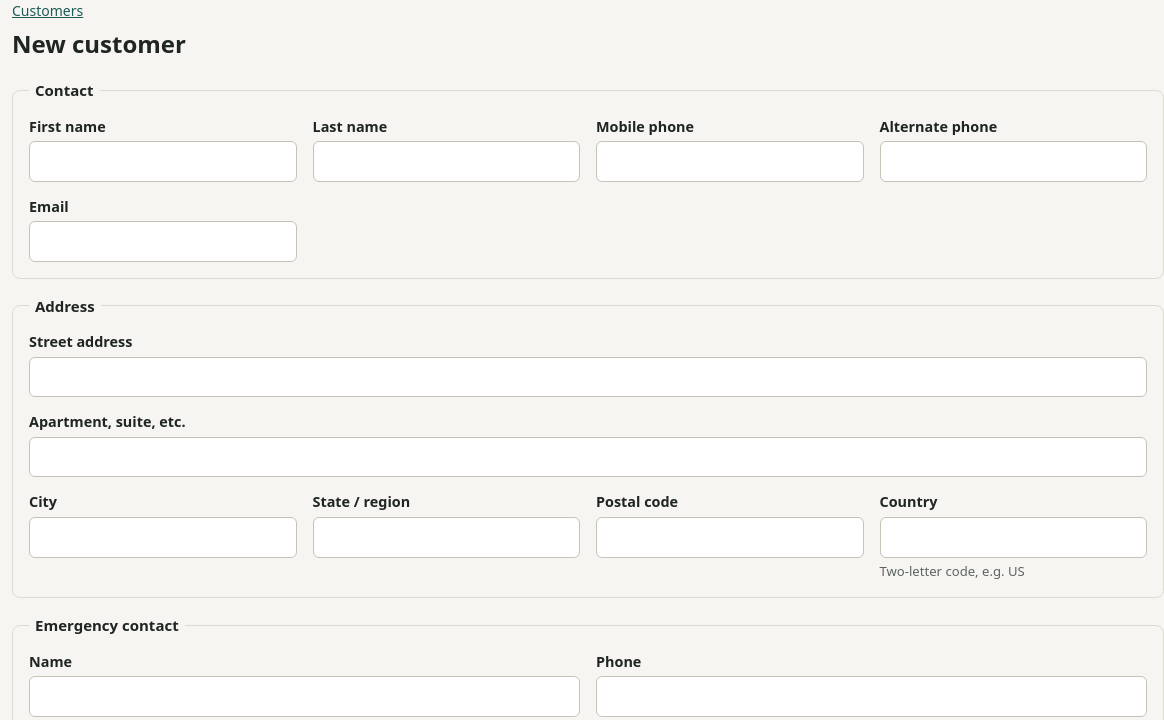
Test: CustomerFormPage › sends the CSRF header and navigates to the new customer
The image size is (1164, 720).
In the field labelled "First name": (163, 161) 29,141 -> 296,182, type "Dana"
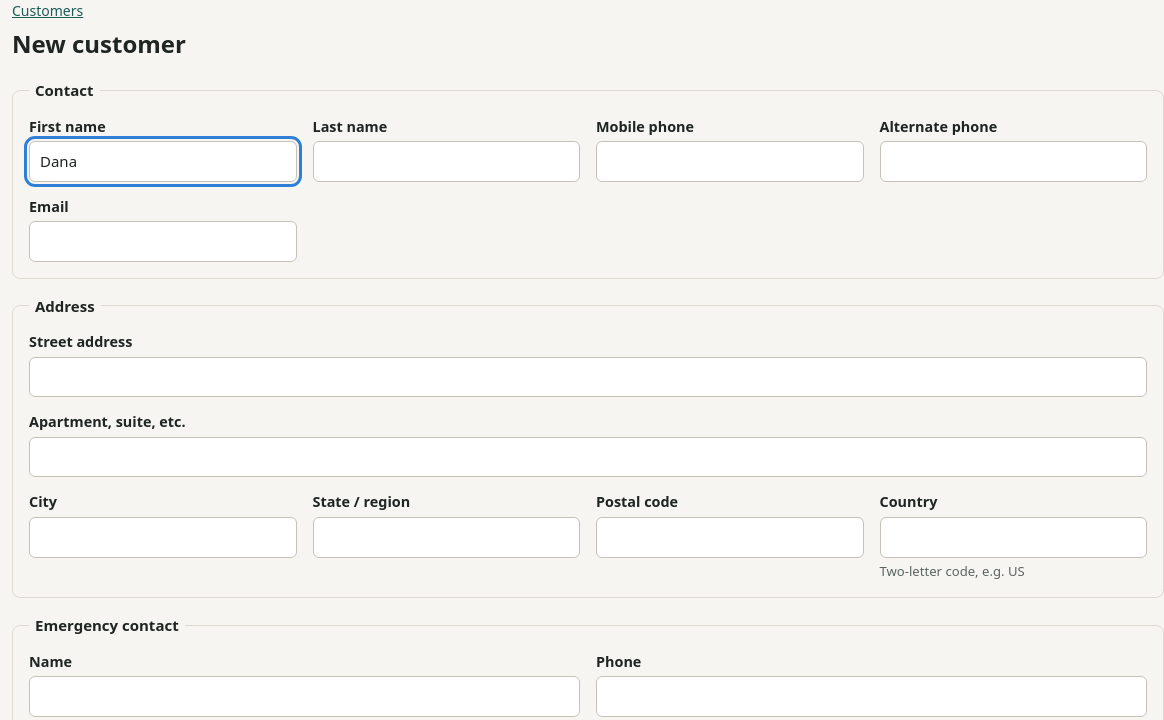
In the field labelled "Last name": (446, 161) 312,141 -> 580,182, type "Whitfield"
(page scrolled)
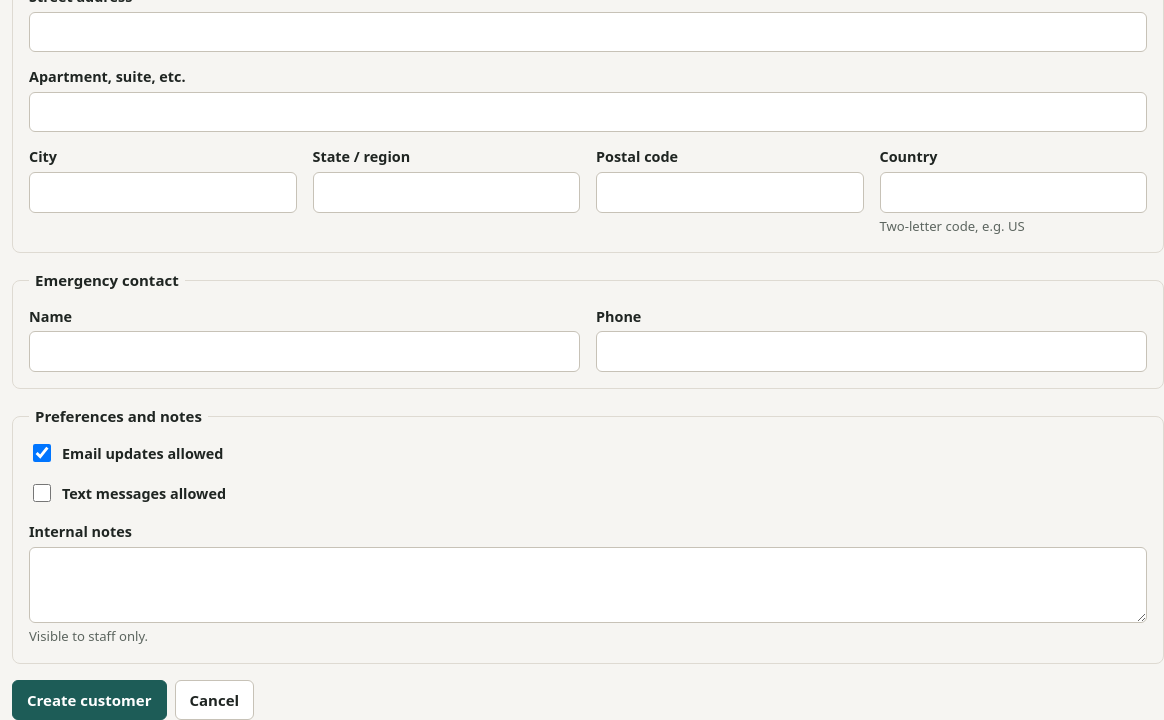
Click the button "Create customer": (89, 700) 12,680 -> 166,719
(page scrolled)
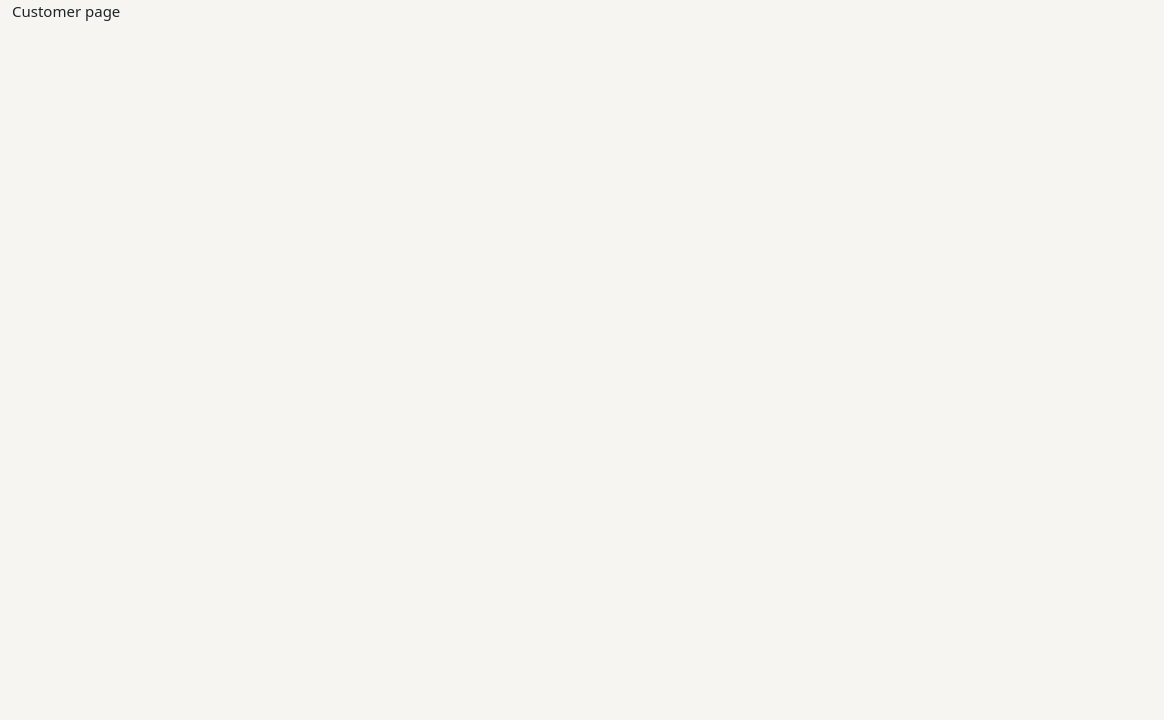
Result: the text "Customer page" is shown at 12,1 -> 120,21
